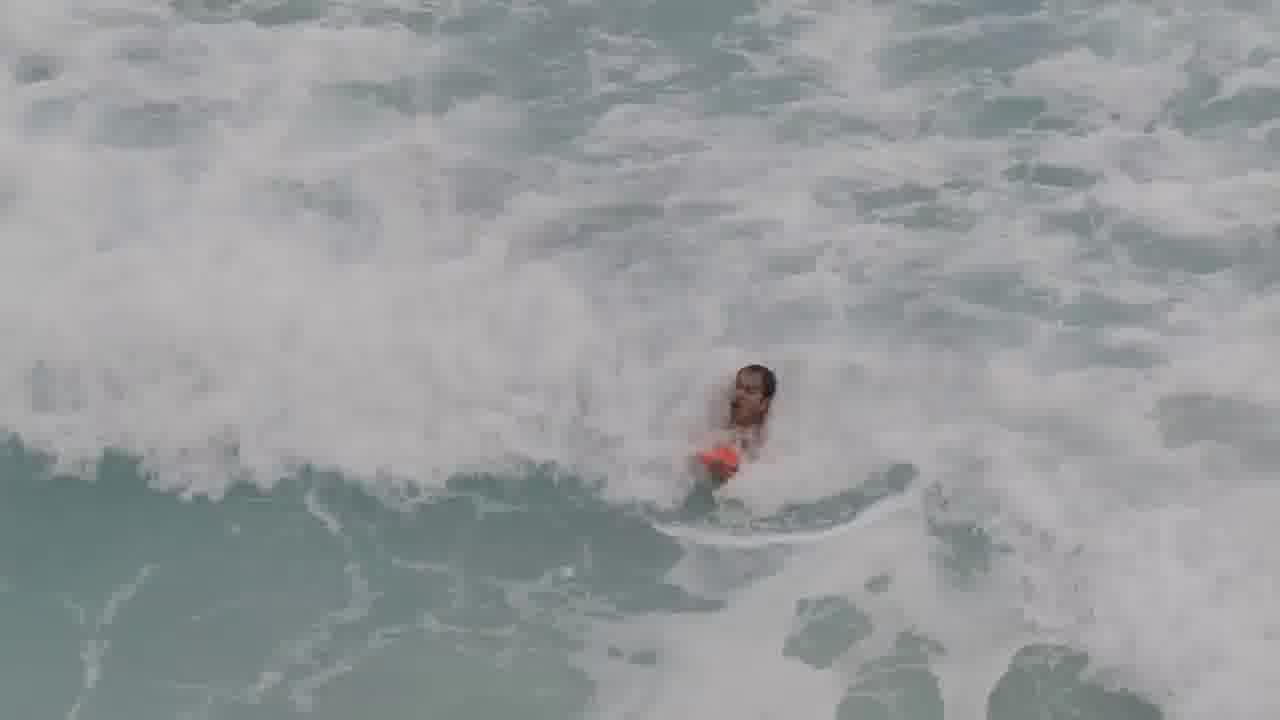swimmer: (710, 353, 791, 421)
